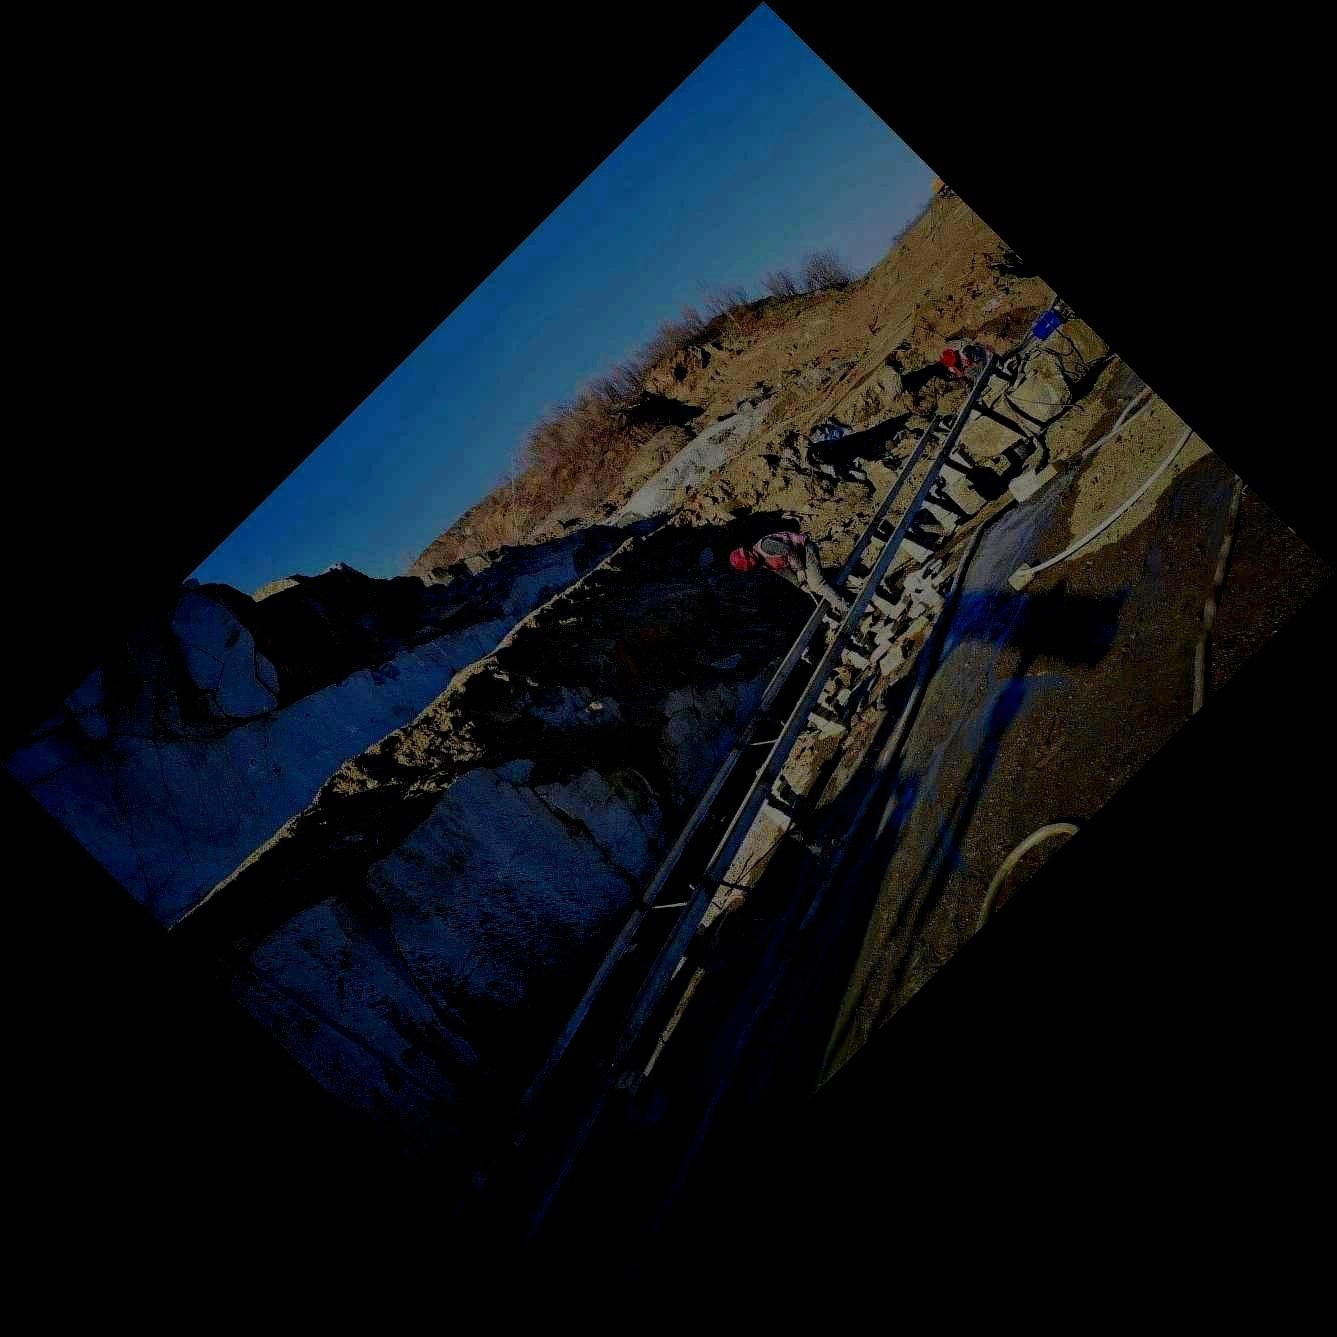helmet: (728, 547, 760, 572)
